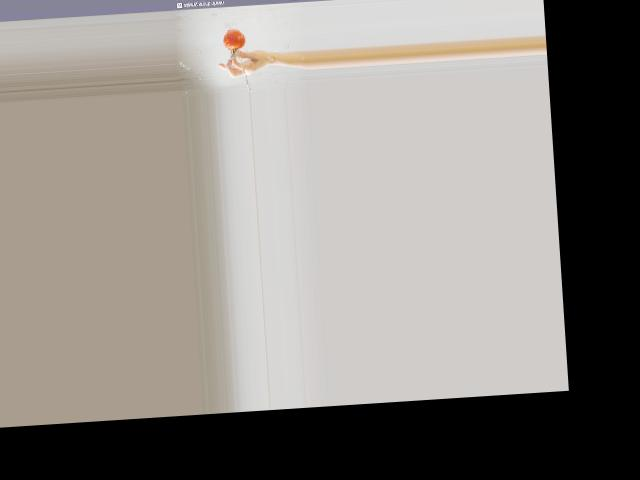tomato: (224, 27, 247, 49)
